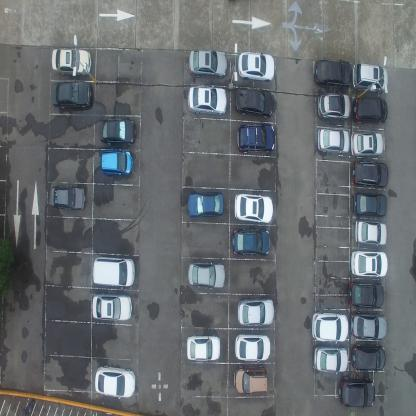car: (93, 255, 136, 289), (95, 364, 136, 398), (232, 191, 273, 224), (234, 85, 274, 118), (313, 58, 353, 91), (235, 122, 276, 154), (187, 48, 228, 80), (51, 80, 93, 110), (50, 45, 92, 75), (188, 86, 228, 116), (229, 228, 270, 257), (353, 62, 389, 95), (312, 311, 348, 344), (237, 296, 275, 327), (237, 52, 275, 82), (92, 293, 132, 321), (50, 182, 87, 212), (234, 332, 271, 362), (338, 378, 375, 408), (187, 260, 225, 289), (349, 311, 387, 340), (350, 250, 389, 278), (232, 365, 268, 395), (352, 96, 388, 126), (352, 160, 388, 189), (348, 280, 384, 309), (98, 118, 138, 144), (186, 332, 220, 362), (186, 191, 224, 217), (351, 343, 385, 372), (317, 93, 352, 121), (312, 347, 348, 374), (316, 127, 350, 155), (354, 219, 387, 247), (100, 149, 134, 176), (350, 131, 384, 156), (353, 192, 387, 217)
